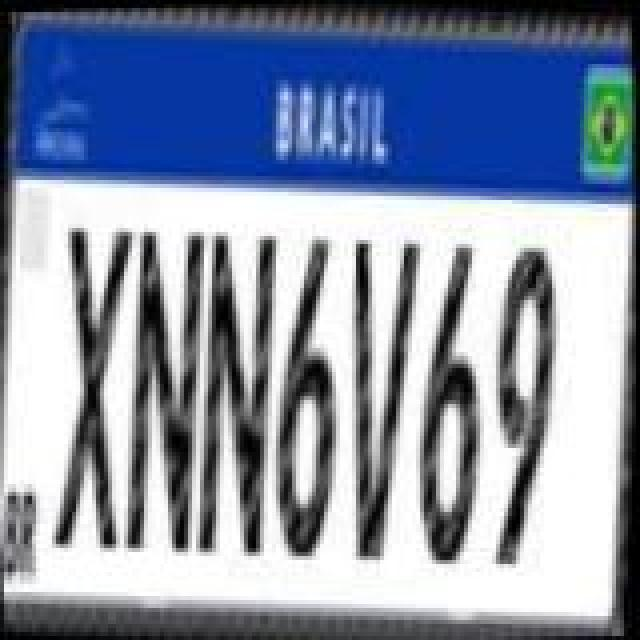6: (258, 226, 362, 562), (400, 230, 500, 566)
9: (472, 232, 572, 568)
N: (184, 224, 292, 560), (114, 220, 218, 560)
V: (324, 228, 432, 564)
X: (42, 218, 146, 558)
